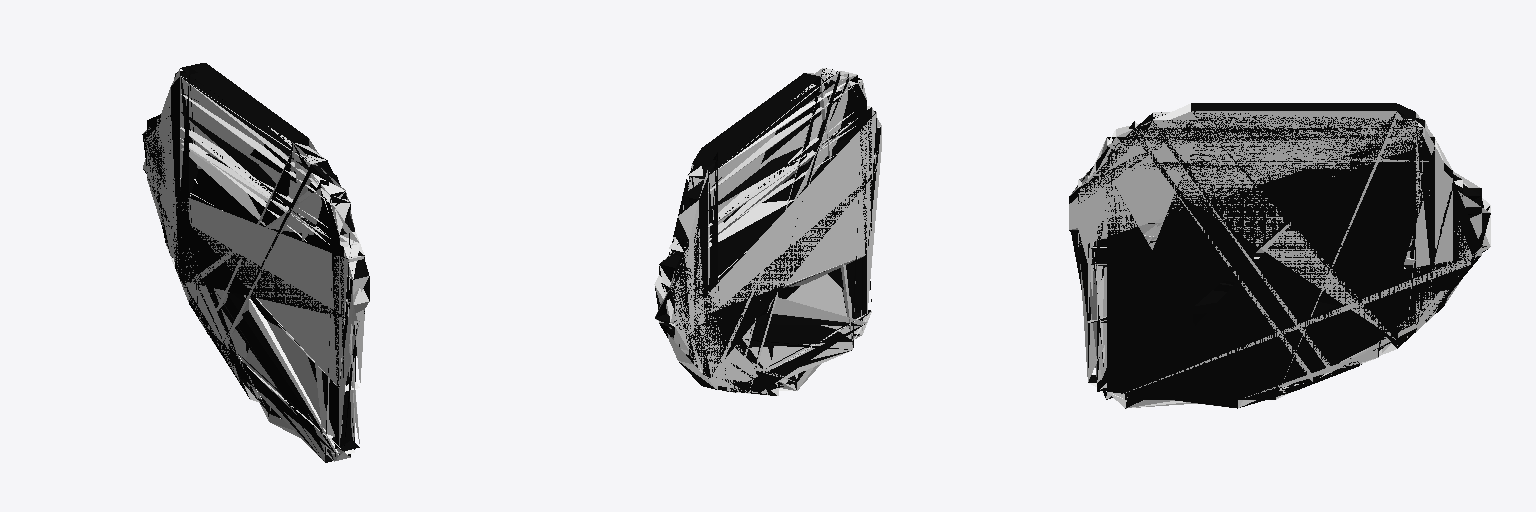
3 views of the same model, side by side, from view 1: azimuth 30°, elevation 25°; view 2: azimuth 150°, elevation 25°; view 3: azimuth 270°, elevation 25° (orthographic).
Size of the model in its own units: 2 by 35 by 45.
Materials: 1 (1 with a texture image).